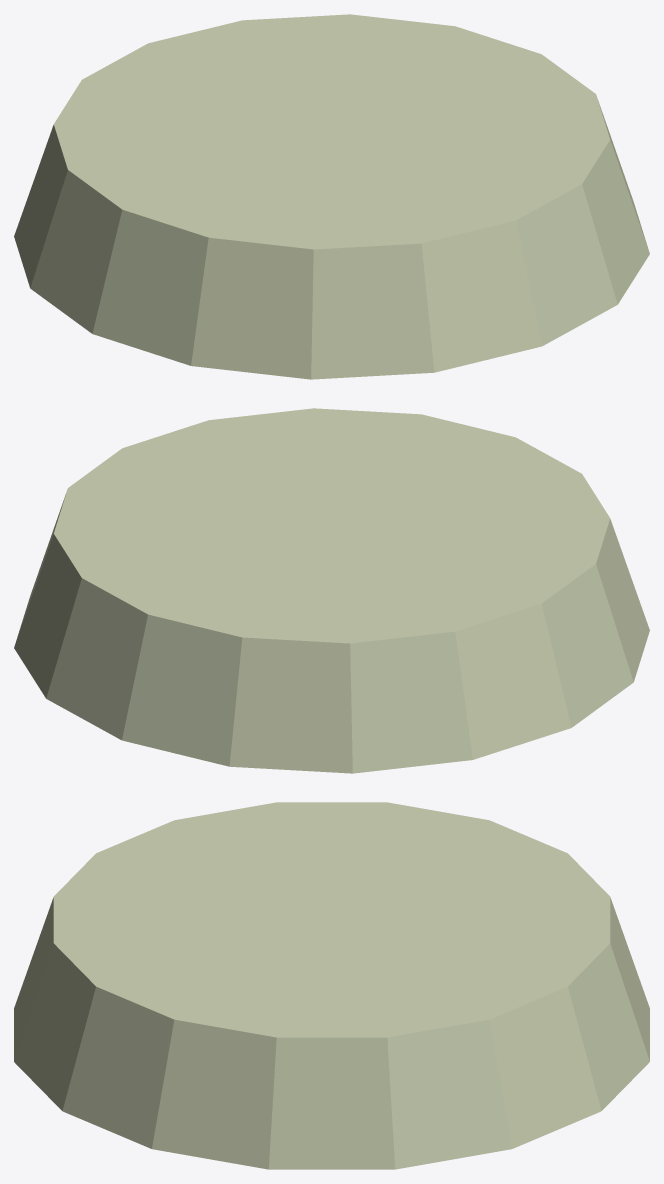
File: rotanev_lv_fairing_s4_1_collider.obj
3 views of the same model, one above another, from view 1: azimuth 30°, elevation 25°; view 2: azimuth 150°, elevation 25°; view 3: azimuth 270°, elevation 25° (orthographic).
Visible parts, largest first — view 1: collider; view 2: collider; view 3: collider.
Part boxes in pixels (left/top/right/bottom): collider: left=14, top=14, right=649, bottom=379; collider: left=14, top=408, right=649, bottom=773; collider: left=14, top=802, right=649, bottom=1169.
Bounding box in the file's own units: 5 × 1 × 5.
